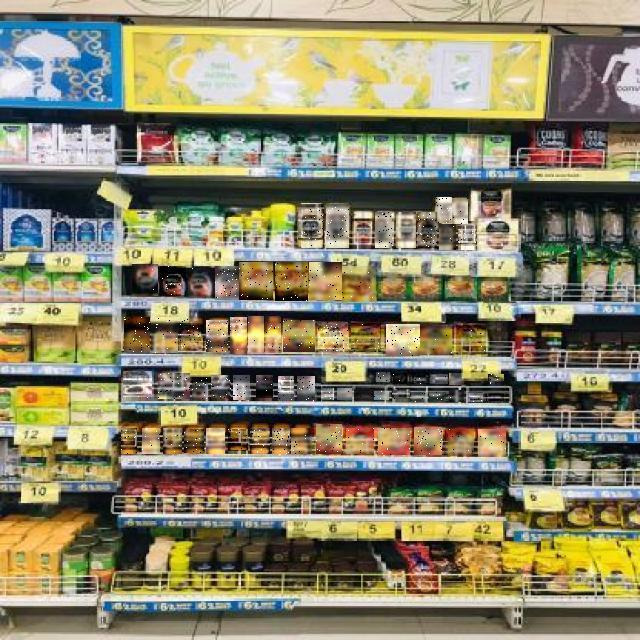Coffee: (239, 262, 273, 300), (275, 262, 308, 301), (309, 262, 342, 300), (342, 266, 376, 302), (298, 204, 324, 248), (386, 324, 420, 356), (283, 320, 315, 352), (326, 204, 349, 248), (151, 318, 178, 353), (352, 323, 384, 352), (124, 317, 150, 352), (318, 322, 348, 352), (457, 325, 487, 355), (420, 326, 452, 354), (378, 428, 410, 455), (179, 319, 204, 353), (133, 264, 159, 296), (158, 373, 190, 399), (215, 266, 239, 300), (123, 372, 152, 400), (415, 427, 443, 455), (479, 429, 507, 457), (316, 424, 342, 454), (160, 266, 186, 296), (188, 268, 214, 298), (346, 428, 374, 454), (396, 212, 416, 248), (206, 320, 228, 352), (448, 429, 474, 456), (418, 212, 437, 248), (376, 212, 394, 248), (230, 317, 247, 354), (265, 316, 281, 353), (248, 317, 264, 353), (292, 428, 314, 454), (250, 429, 270, 455), (163, 428, 182, 454), (206, 429, 225, 455), (184, 429, 204, 453), (229, 430, 249, 454), (212, 376, 232, 400), (142, 428, 160, 454), (272, 429, 290, 455), (440, 224, 458, 250), (459, 225, 477, 250), (297, 376, 315, 401), (233, 375, 250, 400), (121, 428, 137, 454), (436, 197, 452, 223), (452, 198, 468, 224), (256, 376, 273, 400), (278, 376, 294, 401), (192, 377, 208, 400), (354, 389, 374, 400), (392, 390, 410, 402), (412, 373, 428, 385), (450, 373, 466, 385), (488, 374, 504, 386), (450, 390, 466, 402), (430, 374, 448, 384), (337, 388, 352, 400), (411, 392, 427, 402), (321, 388, 334, 400), (393, 373, 407, 384), (468, 393, 483, 403), (430, 392, 448, 400), (487, 393, 505, 401), (376, 373, 390, 383), (374, 391, 389, 400), (455, 248, 456, 249)
